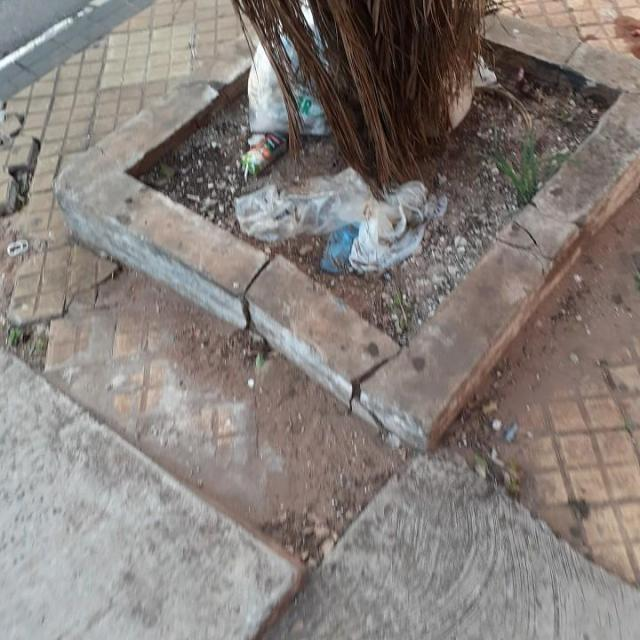litter: (234, 170, 445, 275), (238, 134, 286, 178)
